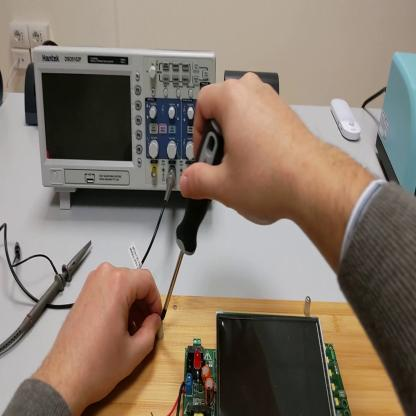hand: (179, 72, 306, 230), (54, 261, 166, 402)
low voltage board: (145, 313, 351, 411)
oscilloscope: (31, 47, 219, 212)
oscilloscope probe tip: (3, 238, 92, 357)
screwdriver-: (163, 121, 227, 319)
socket: (25, 62, 38, 125), (2, 71, 5, 110)
welder station: (376, 53, 416, 191)
working area: (80, 295, 402, 410)
